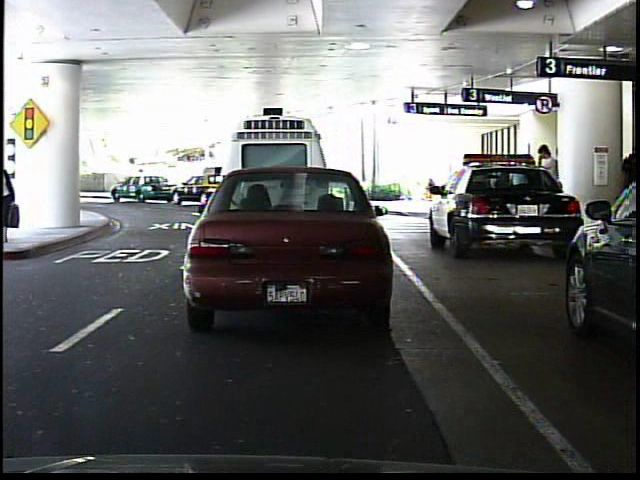person: (533, 140, 567, 238), (613, 135, 640, 244), (133, 165, 151, 198)
